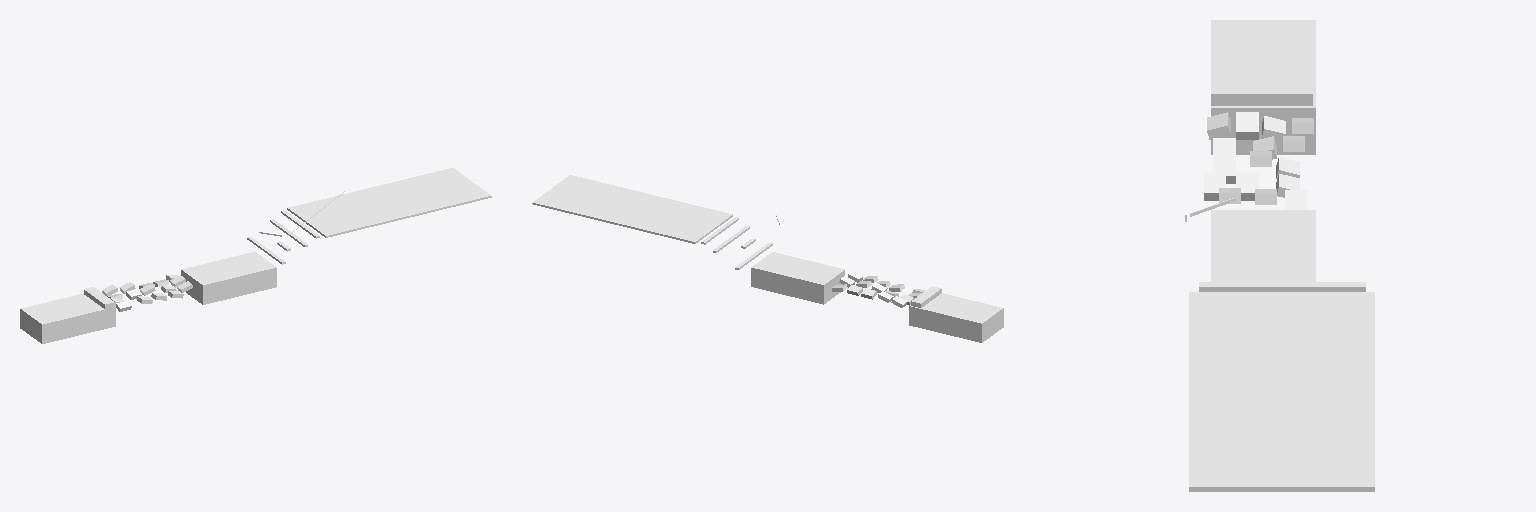
The robot description file, URDF, robot "race_3_ramp":
<robot name="race_3_ramp">
  <link name="base_link">
    <visual>
      <origin xyz="0 0 0" rpy="0 0 0" />
      <geometry>
        <mesh filename="package://hpp-rbprm-corba/meshes/race_3_ramp.stl"/>
      </geometry>
      <material name="white">
        <color rgba="1 1 1 1"/>
      </material>
    </visual>
    <collision>
      <origin xyz="0 0 0" rpy="0 0 0" />
      <geometry>
        <mesh filename="package://hpp-rbprm-corba/meshes/race_3_ramp.stl"/>
      </geometry>
    </collision>
  </link>
</robot>

--- Render facts (derived) ---
The picture shows the robot from 3 angles, left to right: view 1: azimuth 30°, elevation 25°; view 2: azimuth 150°, elevation 25°; view 3: azimuth 270°, elevation 25°; orthographic projection.
Robot: race_3_ramp — 1 links, 0 joints (none); root link base_link; default pose: every joint at zero.
Visible links, largest first — view 1: base_link; view 2: base_link; view 3: base_link.
Boxes of the visible links, <box> form: base_link: <box>20,168,491,343</box>; base_link: <box>532,169,1003,342</box>; base_link: <box>1185,20,1374,491</box>.
Bounding box of the posed robot: 11.78 × 1.81 × 2.14 m (x, y, z).
Meshes: 1 distinct files referenced, 1 mesh visuals loaded (1 binary STL).